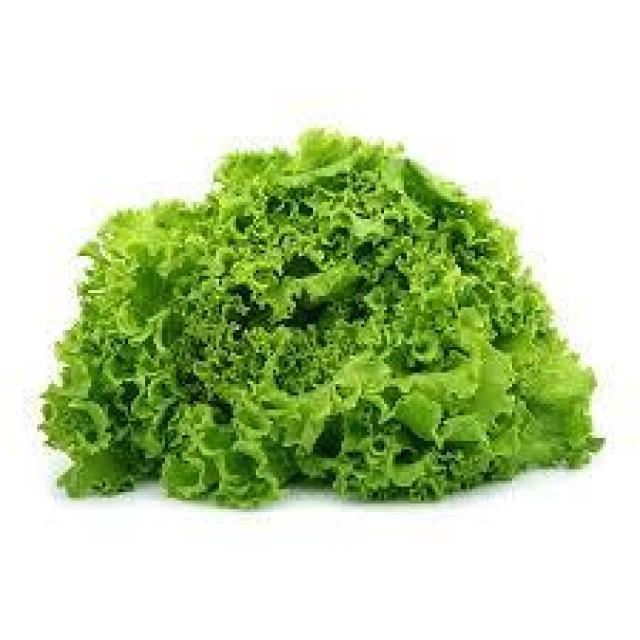organic: (37, 128, 603, 512)
